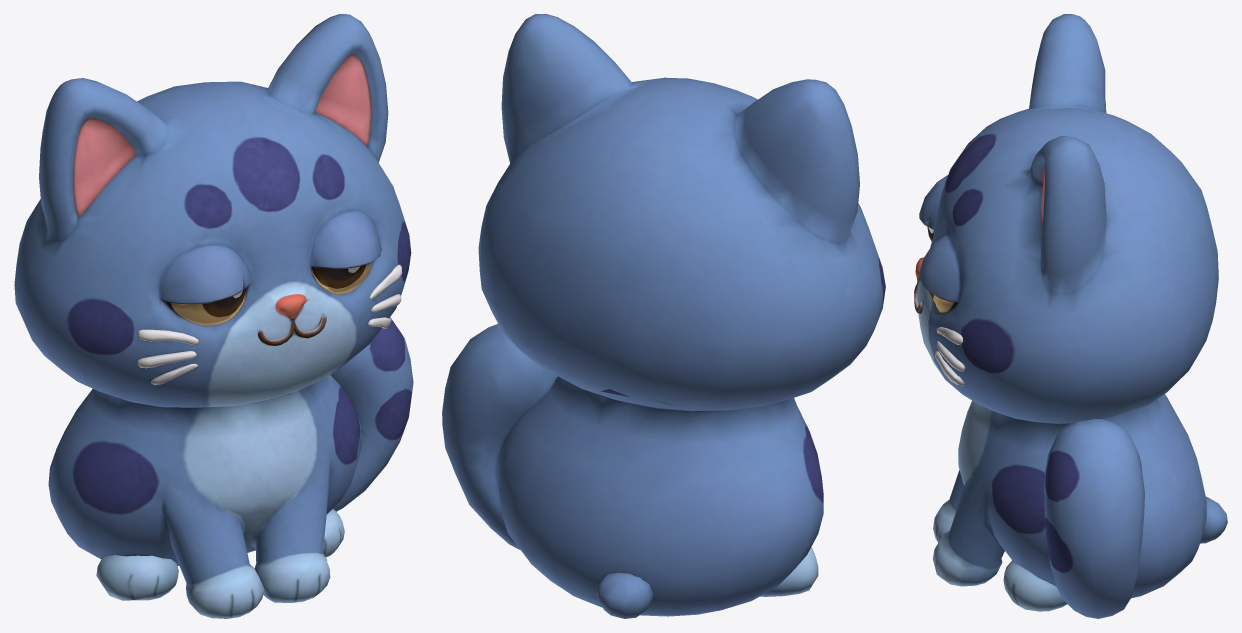
Rendered from cat_blue.glb.
3 views of the same model, side by side, from view 1: azimuth 30°, elevation 25°; view 2: azimuth 150°, elevation 25°; view 3: azimuth 270°, elevation 25° (orthographic). The views are drawn at different scales.
Parts seen in each view (by area): view 1: geometry_0; view 2: geometry_0; view 3: geometry_0.
Part boxes in pixels (<box>): geometry_0: <box>14,14,413,618</box>; geometry_0: <box>442,14,885,618</box>; geometry_0: <box>914,14,1227,618</box>.
Size of the model in its own units: 0.7617 by 0.9521 by 0.5586.
Materials: 1 (1 with a texture image).
